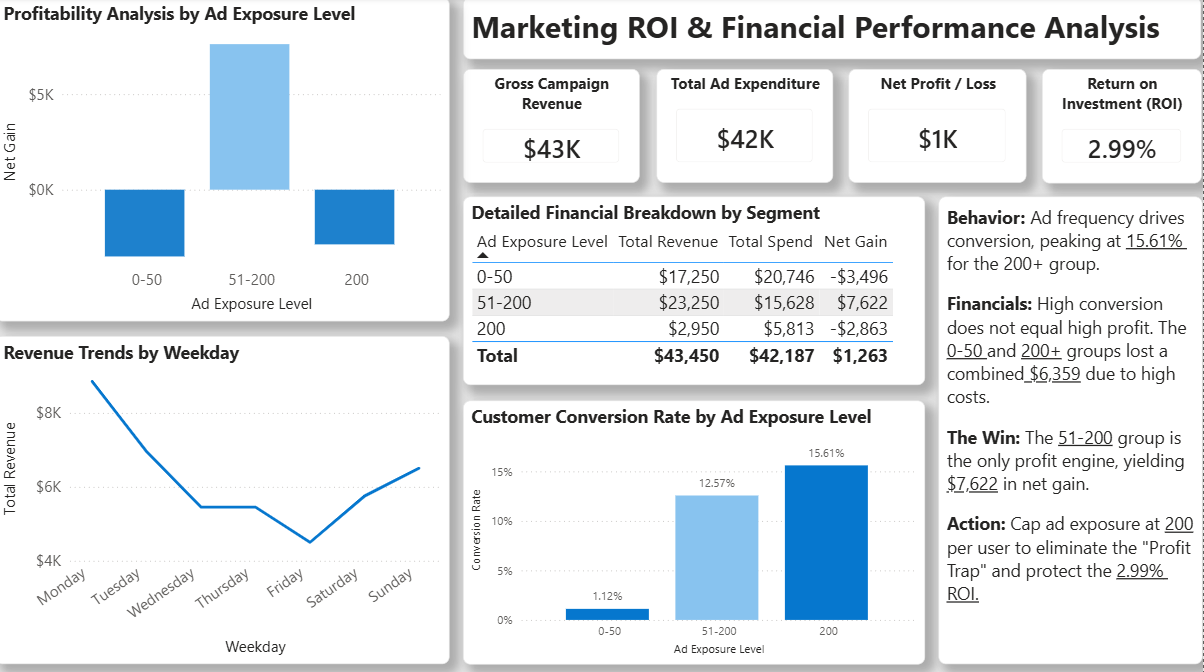

Layout of this report page (visuals, bound fields, positions):
{"tool":"powerbi","page":{"name":"Marketing ROI &  Financial Performance Analysis (Page 2)","canvas":[1280,720],"ordinal":1},"visuals":[{"type":"textbox","box":[497,0,782.4,66.1],"z":0},{"type":"cardVisual","title":"Gross Campaign Revenue","fields":{"Data":["marketing_AB_cleaned.Total Revenue"]},"box":[497,75.6,187.1,120.9],"z":1000},{"type":"cardVisual","title":"Total Ad Expenditure","fields":{"Data":["marketing_AB_cleaned.Total Spend"]},"box":[701,75.6,187.1,120.9],"z":2000},{"type":"cardVisual","title":"Net Profit / Loss","fields":{"Data":["marketing_AB_cleaned.Net Gain"]},"box":[905.1,75.6,189,120.9],"z":3000},{"type":"cardVisual","title":"Return on Investment (ROI)","fields":{"Data":["marketing_AB_cleaned.ROI %"]},"box":[1111,75.6,169,121],"z":4000},{"type":"clusteredColumnChart","title":"Profitability Analysis by Ad Exposure Level","fields":{"Category":["marketing_AB_cleaned.ads_bucket"],"Y":["marketing_AB_cleaned.Net Gain"]},"box":[0,0,482,344],"z":5000},{"type":"lineChart","title":"Revenue Trends by Weekday","fields":{"Category":["WeekdaySort.DayName"],"Y":["marketing_AB_cleaned.Total Revenue"]},"box":[0,360,482,348],"z":6000},{"type":"tableEx","title":"Detailed Financial Breakdown by Segment","fields":{"Values":["marketing_AB_cleaned.ads_bucket","marketing_AB_cleaned.Total Revenue","marketing_AB_cleaned.Total Spend","marketing_AB_cleaned.Net Gain"]},"box":[496,212,490,200],"z":7000},{"type":"clusteredColumnChart","title":"Customer Conversion Rate by Ad Exposure Level","fields":{"Category":["marketing_AB_cleaned.ads_bucket"],"Y":["marketing_AB_cleaned.Conversion Rate"]},"box":[496,428,490,280],"z":8000},{"type":"textbox","box":[1000,212,280,496],"z":9000}]}

Visuals, with their boxes in screenshot pixels (x1, y1, x2, y2), scaled from the page's 1280x720 canvas onto the 1204x672 screenshot:
textbox: 467:0:1203:62
"Gross Campaign Revenue" cardVisual: 467:71:643:183
"Total Ad Expenditure" cardVisual: 659:71:835:183
"Net Profit / Loss" cardVisual: 851:71:1029:183
"Return on Investment (ROI)" cardVisual: 1045:71:1203:183
"Profitability Analysis by Ad Exposure Level" clusteredColumnChart: 0:0:453:321
"Revenue Trends by Weekday" lineChart: 0:336:453:661
"Detailed Financial Breakdown by Segment" tableEx: 467:198:927:385
"Customer Conversion Rate by Ad Exposure Level" clusteredColumnChart: 467:399:927:661
textbox: 941:198:1203:661
